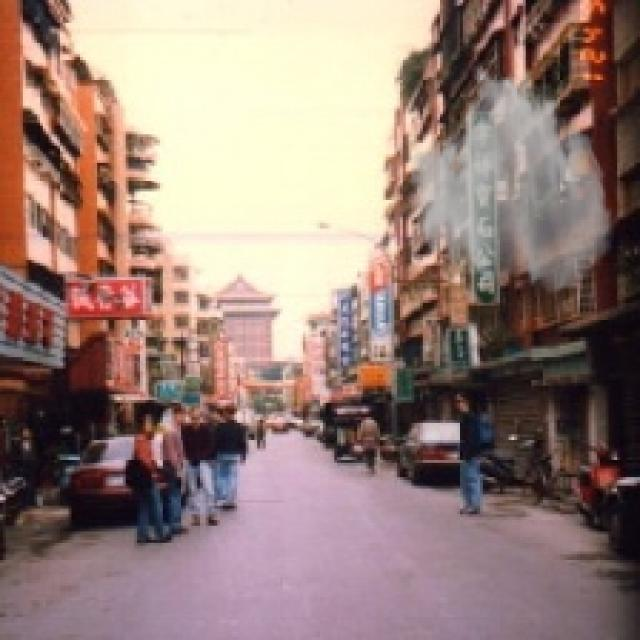smoke: (406, 60, 614, 297)
